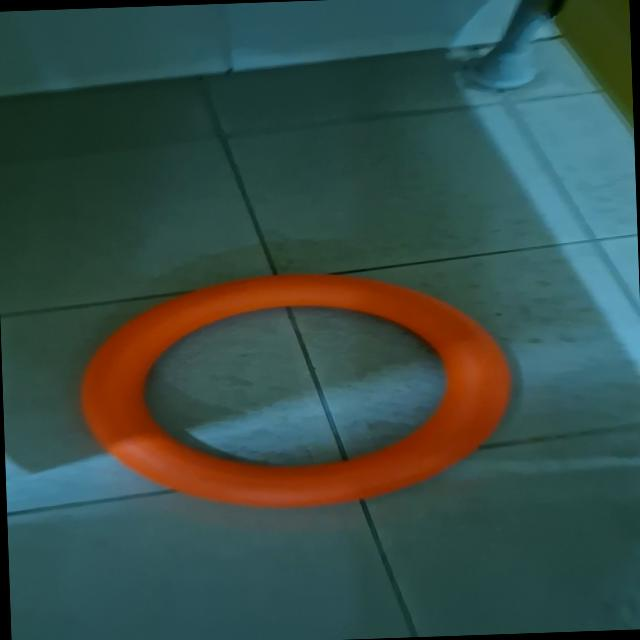note: (74, 264, 517, 516)
